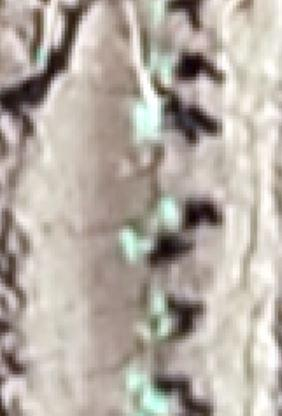cotton: (142, 383, 164, 415), (134, 106, 159, 134), (149, 292, 168, 316), (122, 229, 135, 260), (152, 56, 171, 77), (159, 313, 176, 336), (159, 196, 174, 220)
